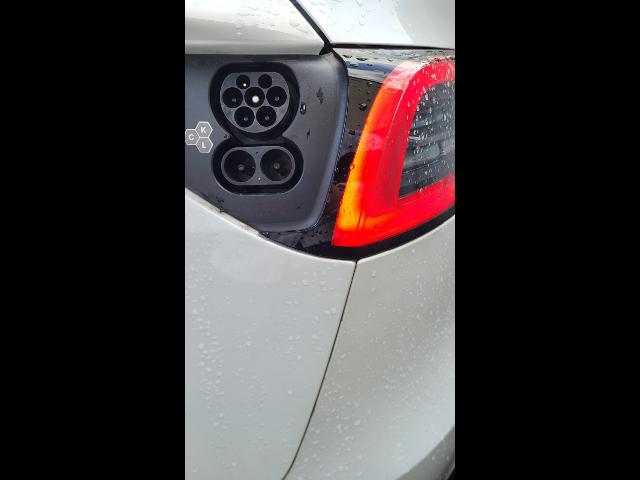inlet: (220, 72, 289, 132)
inlet-above-left: (236, 75, 251, 89)
inlet-above-right: (258, 74, 272, 89)
inlet-below-left: (234, 106, 255, 127)
inlet-below-right: (256, 106, 277, 127)
inlet-circle: (244, 87, 265, 107)
inlet-circle-left: (223, 87, 243, 109)
inlet-circle-right: (266, 86, 287, 107)
inlet-minus: (260, 149, 292, 182)
inlet-plus: (224, 150, 256, 183)
